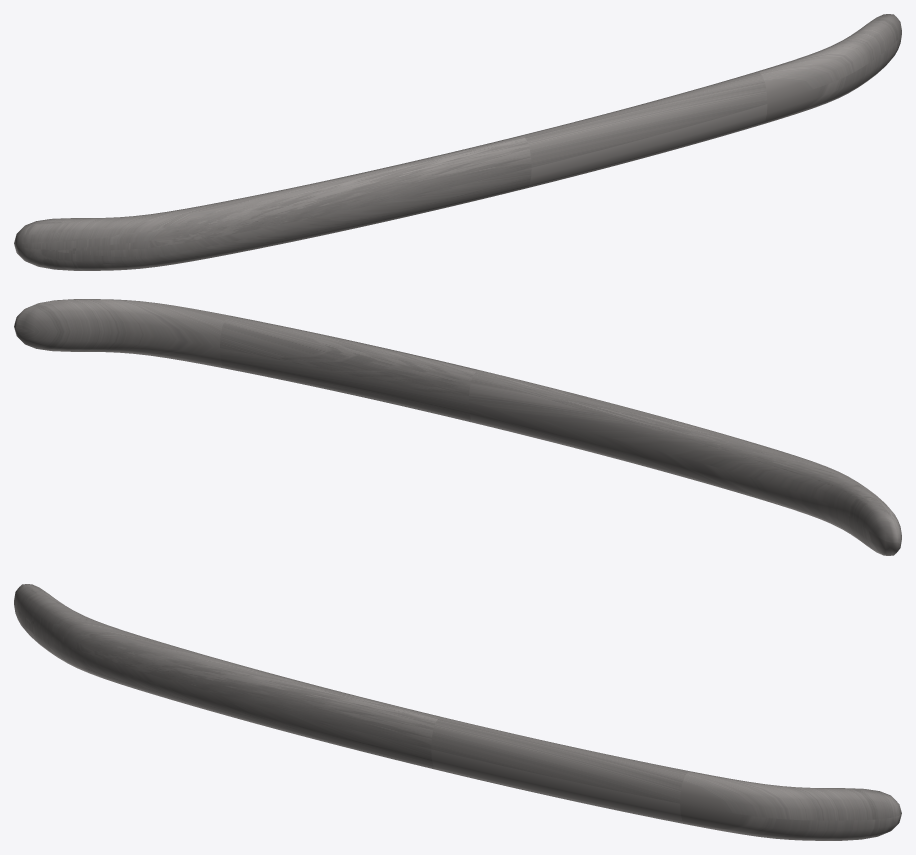
File: Rib.fbx
3 views of the same model, one above another, from view 1: azimuth 30°, elevation 25°; view 2: azimuth 150°, elevation 25°; view 3: azimuth 330°, elevation 25° (orthographic).
Visible parts, largest first — view 1: Rib; view 2: Rib; view 3: Rib.
Boxes of the visible parts, x1,y1,x2,y2 form: Rib: [14, 14, 901, 270]; Rib: [14, 299, 901, 555]; Rib: [14, 584, 901, 840].
Bounding box in the file's own units: 405 × 22.54 × 42.75.
